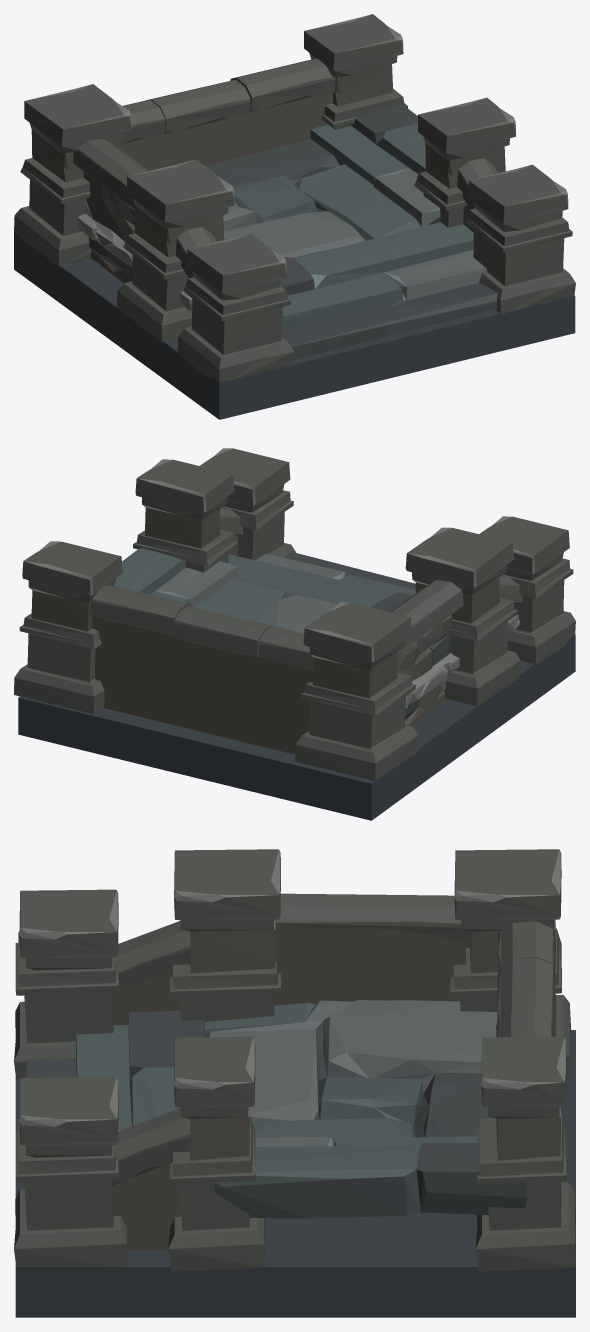
The model's file is MDungeons_Steps_ShortCorner.FBX.
3 views of the same model, one above another, from view 1: azimuth 30°, elevation 25°; view 2: azimuth 150°, elevation 25°; view 3: azimuth 270°, elevation 25° (orthographic). The views are drawn at different scales.
Visible parts, largest first — view 1: MDungeons_Steps_ShortCorner_LOD0; view 2: MDungeons_Steps_ShortCorner_LOD0; view 3: MDungeons_Steps_ShortCorner_LOD0.
Part boxes in pixels (x1,y1,x2,y2): MDungeons_Steps_ShortCorner_LOD0: [14, 14, 575, 419]; MDungeons_Steps_ShortCorner_LOD0: [14, 448, 575, 820]; MDungeons_Steps_ShortCorner_LOD0: [14, 849, 575, 1317].
Size of what is drawn, in the model's own units: 6.08 by 2.76 by 5.99.
